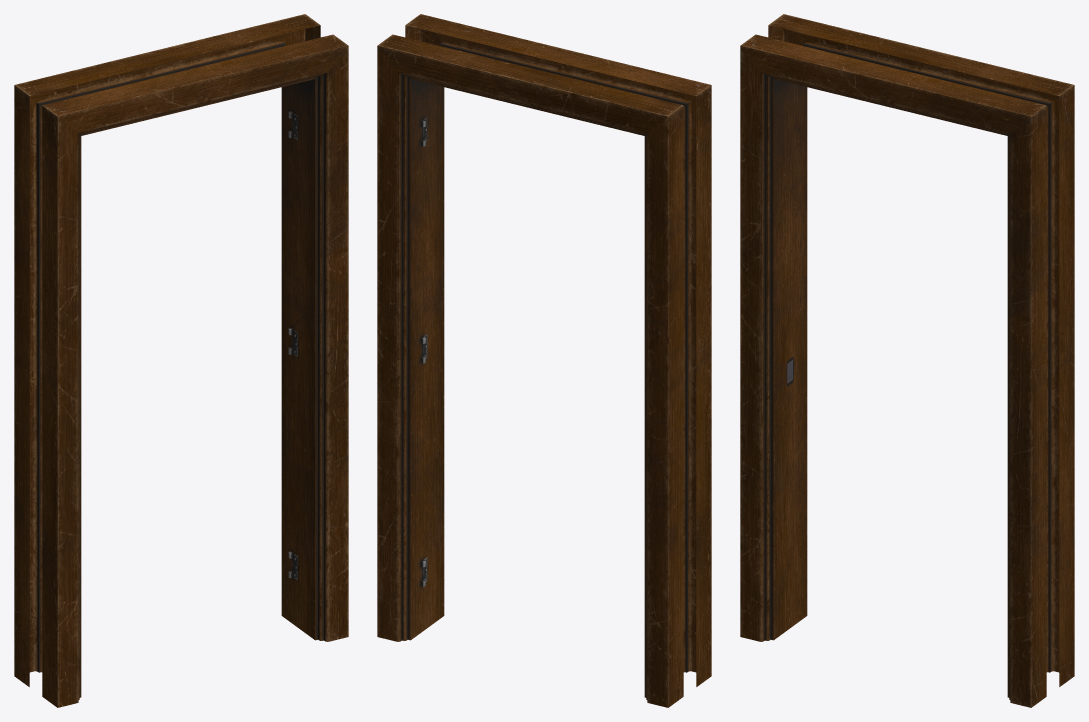
File: door_frame.glb
The picture shows the model from 3 angles, left to right: view 1: azimuth 30°, elevation 25°; view 2: azimuth 150°, elevation 25°; view 3: azimuth 330°, elevation 25°; orthographic projection.
Parts seen in each view (by area): view 1: F; view 2: F; view 3: F.
Part boxes in pixels (left/top/right/bottom): F: left=14, top=14, right=348, bottom=707; F: left=377, top=14, right=711, bottom=707; F: left=740, top=14, right=1074, bottom=707.
Size of the model in its own units: 127 by 246 by 32.66.
1 material, 1 textured.
